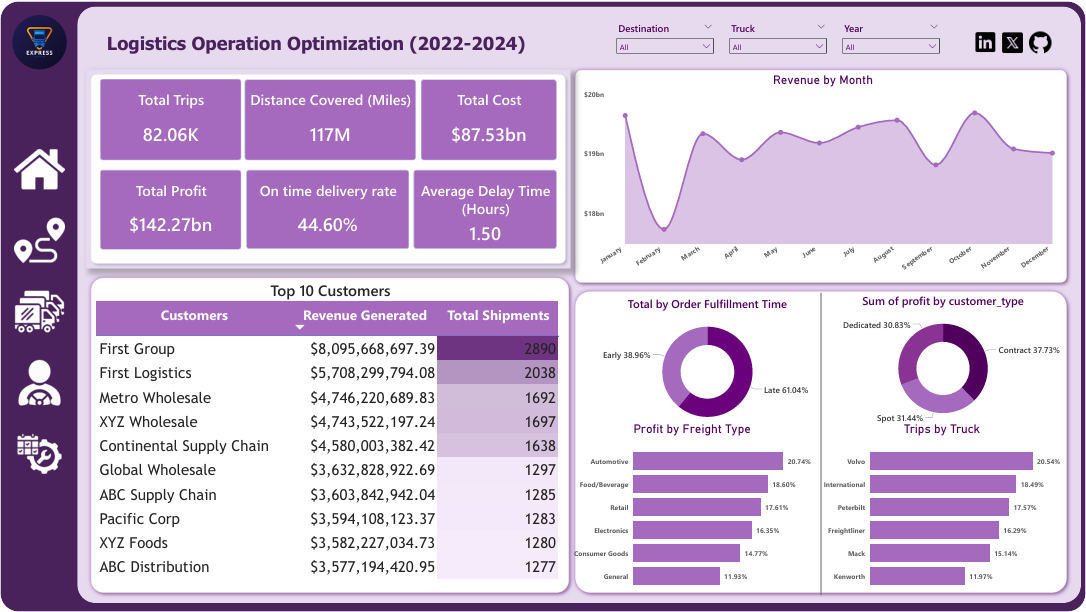

The page's visual inventory and layout, read from the dashboard file:
{"tool":"powerbi","page":{"name":"Executive Summary","canvas":[1920,1080],"ordinal":0},"visuals":[{"type":"shape","box":[0,0,1920,1080],"z":0},{"type":"card","title":"Total Trips","fields":{"Values":["Count(logistics_data.trip_id)"]},"box":[176,136.5,250,144],"z":6,"group":"g7"},{"type":"card","title":"Distance Covered (Miles)","fields":{"Values":["Sum(logistics_data.actual_distance_miles)"]},"box":[432.2,137.5,302.5,142.5],"z":6,"group":"g3"},{"type":"card","title":"Total Cost","fields":{"Values":["Sum(logistics_data.total_cost)"]},"box":[743.5,137.5,240,142.5],"z":6,"group":"g4"},{"type":"card","title":"Total Profit","fields":{"Values":["Sum(logistics_data.profit)"]},"box":[176,297.5,250.1,140.8],"z":6,"group":"g2"},{"type":"card","title":"On time delivery rate","fields":{"Values":["Avg(logistics_data.on_time_delivery_rate)"]},"box":[434.8,297.5,287.5,140],"z":6,"group":"g5"},{"type":"card","title":"Average Delay Time (Hours)","fields":{"Values":["Avg(logistics_data.delay_hours)"]},"box":[731,297.5,252.5,140],"z":6,"group":"g8"},{"type":"shape","box":[136,9,1776,1056],"z":1000},{"type":"shape","box":[151,480,864,576],"z":1000,"group":"g1"},{"type":"shape","box":[1008,112,888,395],"z":2000},{"type":"shape","box":[151,120,857.5,352.5],"z":2000,"group":"g6"},{"type":"shape","box":[1008,504,888,552],"z":3000},{"type":"shape","box":[1008,516,888,535],"z":4000},{"type":"group","id":"g1","title":"Group 3","box":[151,480,864,576],"z":5000},{"type":"textbox","box":[182.5,47.5,805,80],"z":6000},{"type":"image","box":[1765.6,48,50,50],"z":7000},{"type":"group","id":"g2","title":"Group 1","box":[176,297.5,250,140],"z":7000,"group":"g6"},{"type":"image","box":[1814.6,48,50,50],"z":8000},{"type":"image","box":[1718.6,48,48,48],"z":9000},{"type":"group","id":"g3","title":"Group 1","box":[432.2,137.5,302.5,142.5],"z":9000,"group":"g6"},{"type":"donutChart","title":"Total by Order Fulfillment Time","fields":{"Category":["logistics_data.on_time_flag"],"Y":["CountNonNull(logistics_data.trip_id)"]},"box":[1023,521,456,242],"z":10000},{"type":"lineChart","title":"Revenue by Month","fields":{"Y":["Sum(logistics_data.revenue)"],"Category":["logistics_data.dispatch_date.Variation.Date Hierarchy.Month"]},"box":[1017,126,877,369],"z":11000},{"type":"group","id":"g4","title":"Group 1","box":[743.5,137.5,240,142.5],"z":11000,"group":"g6"},{"type":"barChart","title":"Trips by Truck","fields":{"Category":["logistics_data.Truck"],"Y":["CountNonNull(logistics_data.trip_id)"]},"box":[1450,744,432,312],"z":12000},{"type":"group","id":"g5","title":"Group 1","box":[434.8,297.5,287.5,140],"z":13000,"group":"g6"},{"type":"donutChart","fields":{"Category":["logistics_data.customer_type"],"Y":["Sum(logistics_data.profit)"]},"box":[1440,516,456,240],"z":13000},{"type":"tableEx","title":"Top 10 Customers","fields":{"Values":["logistics_data.customer_name","Sum(logistics_data.revenue)","logistics_data.trip_id"]},"box":[164,492,840,552],"z":14000,"group":"g1"},{"type":"clusteredBarChart","title":"Profit by Freight Type","fields":{"Category":["logistics_data.primary_freight_type"],"Y":["Sum(logistics_data.profit)"]},"box":[1008,744,432,312],"z":14000},{"type":"group","id":"g6","title":"Group 2","box":[151,120,840,360],"z":15000},{"type":"image","box":[21,24,96,96],"z":16000},{"type":"image","box":[24,252,90,90],"z":17000},{"type":"group","id":"g7","title":"Group 1","box":[176,136.5,250,144],"z":18000,"group":"g6"},{"type":"image","box":[24,504,90,90],"z":18000},{"type":"group","id":"g8","title":"Group 1","box":[731,297.5,252.5,140],"z":19000,"group":"g6"},{"type":"image","box":[24,630,90,90],"z":19000},{"type":"image","box":[24,756,90,90],"z":20000},{"type":"image","box":[24,378,90,90],"z":21000},{"type":"slicer","fields":{"Values":["logistics_data.dispatch_date.Variation.Date Hierarchy.Year"]},"box":[1480,30,192,72],"z":22000},{"type":"slicer","fields":{"Values":["logistics_data.Truck"]},"box":[1280,30,192,72],"z":23000},{"type":"slicer","fields":{"Values":["logistics_data.destination_state"]},"box":[1080,30,192,72],"z":24000}]}

Visuals, with their boxes in screenshot pixels (x1, y1, x2, y2), scaled from the page's 1920x1080 canvas onto the 1086x612 screenshot:
shape: [0, 0, 1085, 611]
"Total Trips" card: [100, 77, 241, 159]
"Distance Covered (Miles)" card: [244, 78, 416, 159]
"Total Cost" card: [421, 78, 556, 159]
"Total Profit" card: [100, 169, 241, 248]
"On time delivery rate" card: [246, 169, 409, 248]
"Average Delay Time (Hours)" card: [413, 169, 556, 248]
shape: [77, 5, 1081, 604]
shape: [85, 272, 574, 598]
shape: [570, 63, 1072, 287]
shape: [85, 68, 570, 268]
shape: [570, 286, 1072, 598]
shape: [570, 292, 1072, 596]
"Group 3" group: [85, 272, 574, 598]
textbox: [103, 27, 559, 72]
image: [999, 27, 1027, 56]
"Group 1" group: [100, 169, 241, 248]
image: [1026, 27, 1055, 56]
image: [972, 27, 999, 54]
"Group 1" group: [244, 78, 416, 159]
"Total by Order Fulfillment Time" donutChart: [579, 295, 837, 432]
"Revenue by Month" lineChart: [575, 71, 1071, 280]
"Group 1" group: [421, 78, 556, 159]
"Trips by Truck" barChart: [820, 422, 1065, 598]
"Group 1" group: [246, 169, 409, 248]
donutChart - logistics_data.customer_type x Sum(logistics_data.profit): [815, 292, 1072, 428]
"Top 10 Customers" tableEx: [93, 279, 568, 592]
"Profit by Freight Type" clusteredBarChart: [570, 422, 815, 598]
"Group 2" group: [85, 68, 561, 272]
image: [12, 14, 66, 68]
image: [14, 143, 64, 194]
"Group 1" group: [100, 77, 241, 159]
image: [14, 286, 64, 337]
"Group 1" group: [413, 169, 556, 248]
image: [14, 357, 64, 408]
image: [14, 428, 64, 479]
image: [14, 214, 64, 265]
slicer - logistics_data.dispatch_date.Variation.Date Hierarchy.Year: [837, 17, 946, 58]
slicer - logistics_data.Truck: [724, 17, 833, 58]
slicer - logistics_data.destination_state: [611, 17, 719, 58]
